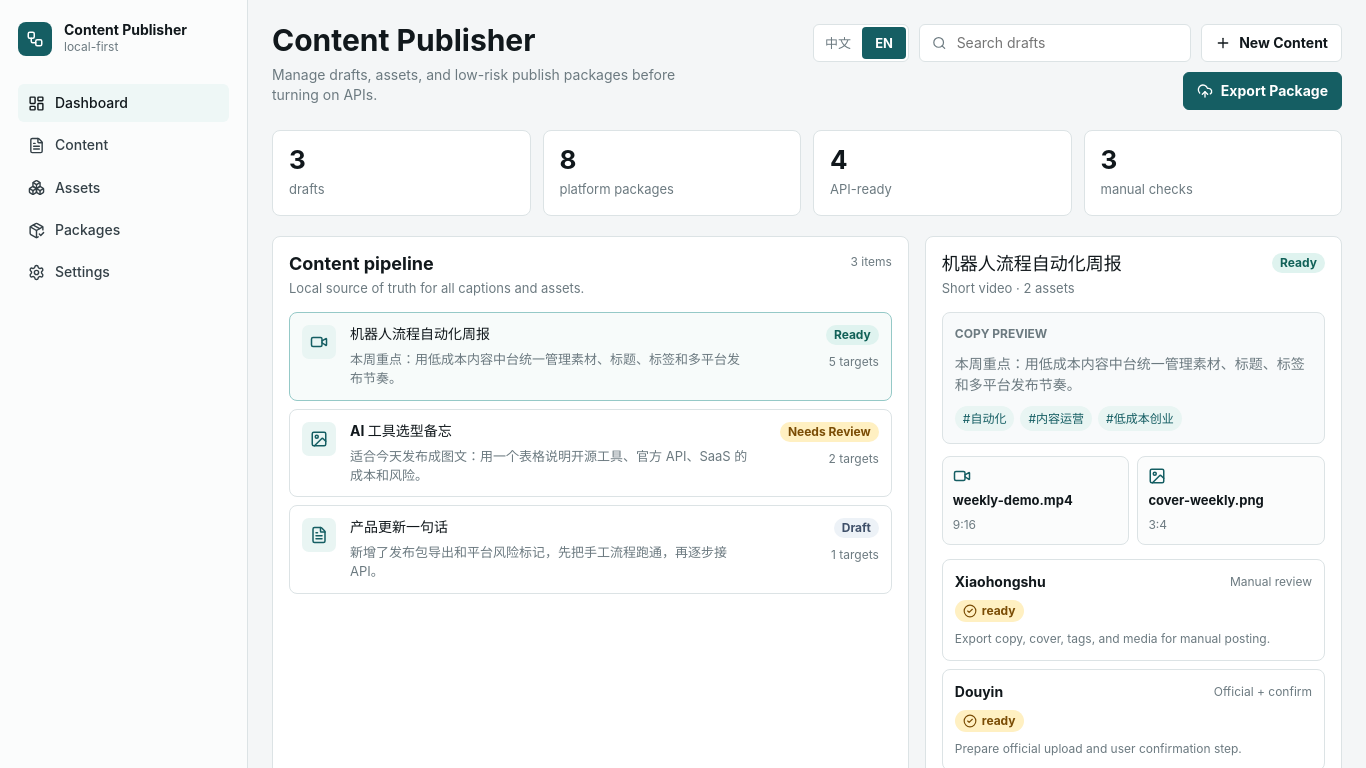
Test: App › switches dashboard chrome to Chinese
The image size is (1366, 768).
What coordinates should you click on to do the following:
click the button "中文"
I would click on:
 (838, 43)
Its box is [816,27,860,59].
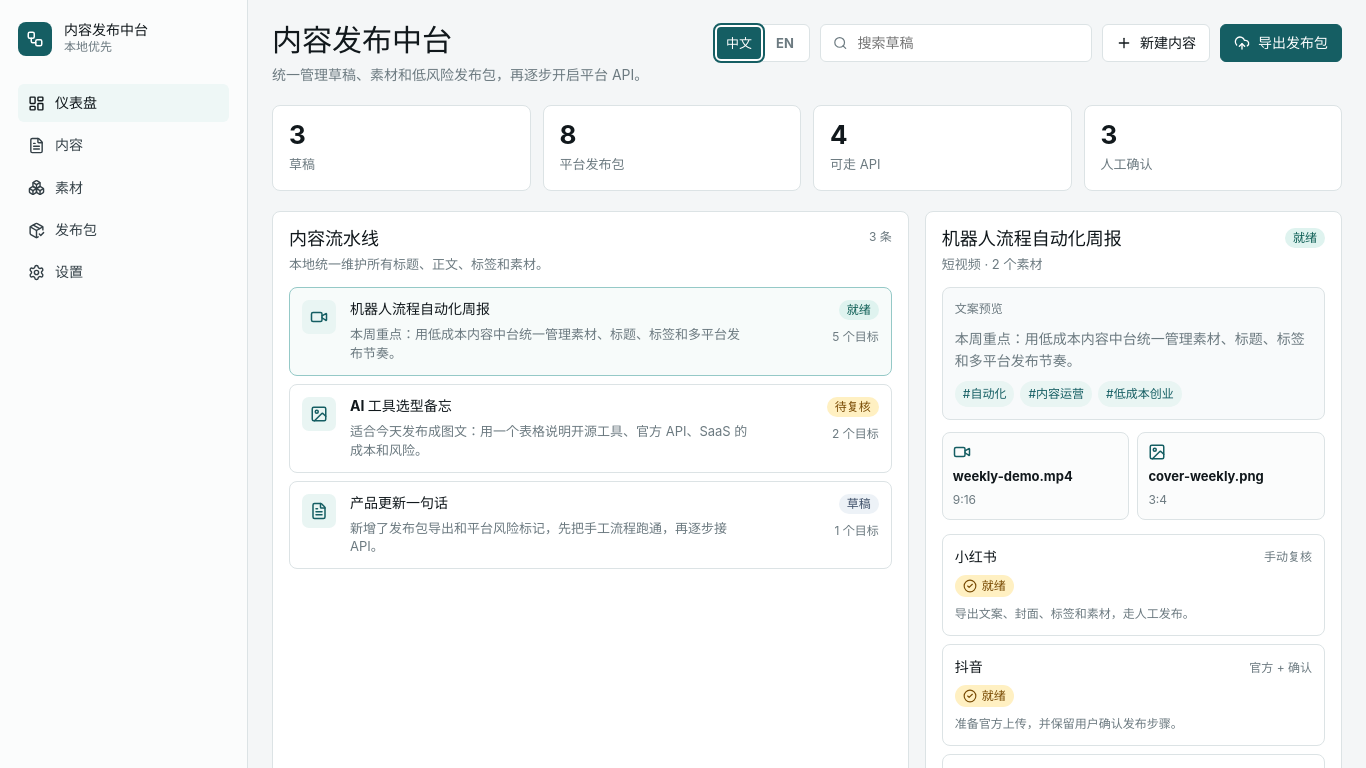
Check: the heading "内容发布中台" is shown, box [272,22,452,58]
Check: the link "发布包" is shown, box [28,221,97,238]
Check: the element named "队列概览" is shown, box [272,105,1342,191]
